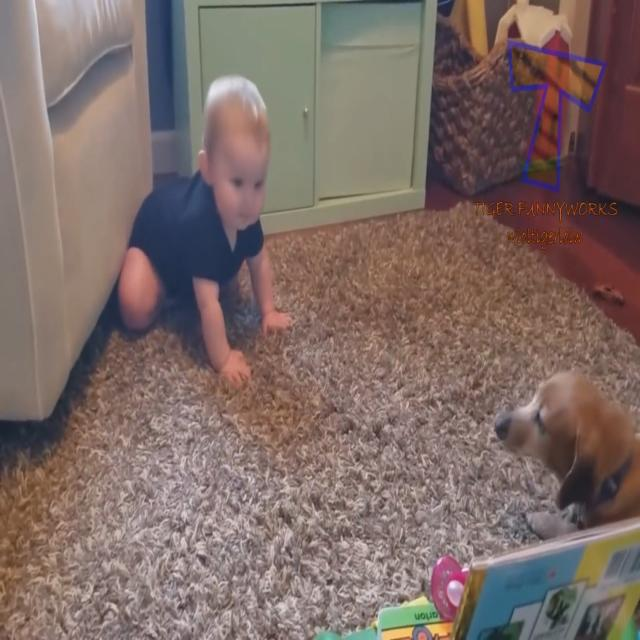safe: (137, 75, 276, 377)
